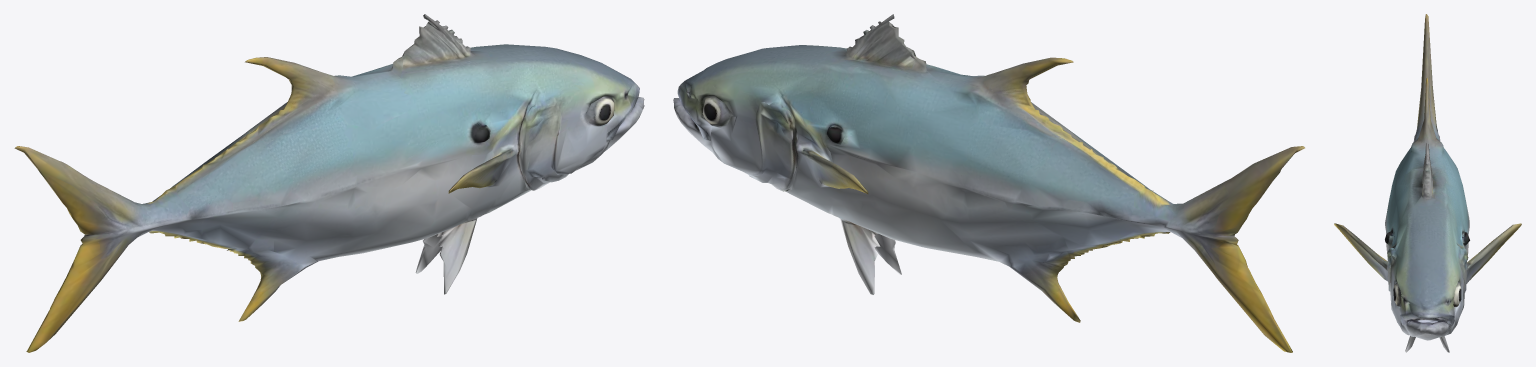
File: trevally.glb
3 views of the same model, side by side, from view 1: azimuth 30°, elevation 25°; view 2: azimuth 150°, elevation 25°; view 3: azimuth 270°, elevation 25° (orthographic). The views are drawn at different scales.
Visible parts, largest first — view 1: tripo_node_894f4af0-4534-4b7c-8f4e-fc4d465a433b; view 2: tripo_node_894f4af0-4534-4b7c-8f4e-fc4d465a433b; view 3: tripo_node_894f4af0-4534-4b7c-8f4e-fc4d465a433b.
Part boxes in pixels (x1=…): tripo_node_894f4af0-4534-4b7c-8f4e-fc4d465a433b: x1=14, y1=14, x2=644, y2=352; tripo_node_894f4af0-4534-4b7c-8f4e-fc4d465a433b: x1=673, y1=14, x2=1304, y2=352; tripo_node_894f4af0-4534-4b7c-8f4e-fc4d465a433b: x1=1334, y1=14, x2=1521, y2=352.
Bounding box in the file's own units: 1 × 0.4114 × 0.3367.
1 material, 1 textured.
